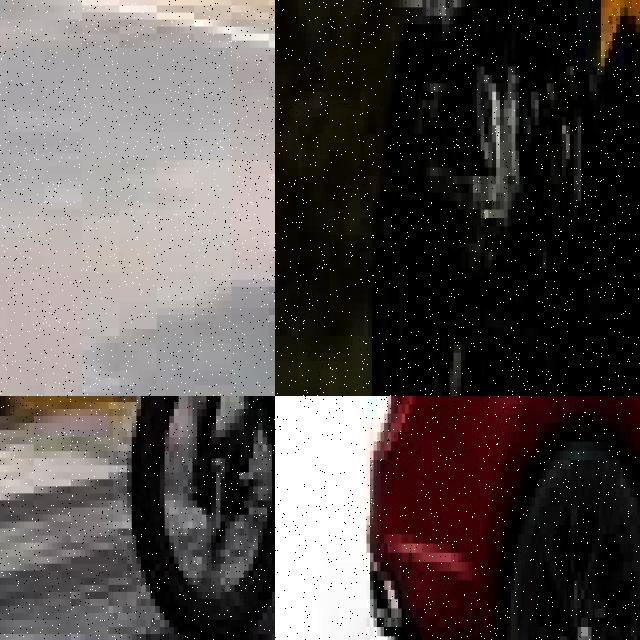bike: (329, 0, 640, 396), (108, 396, 275, 640)
car: (349, 396, 640, 640)
